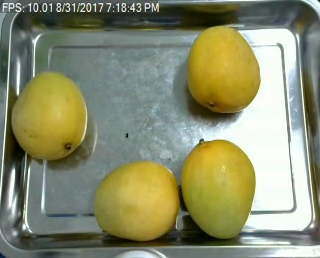Mango: (181, 138, 255, 237), (93, 162, 180, 240), (10, 71, 86, 160), (183, 24, 259, 110)
